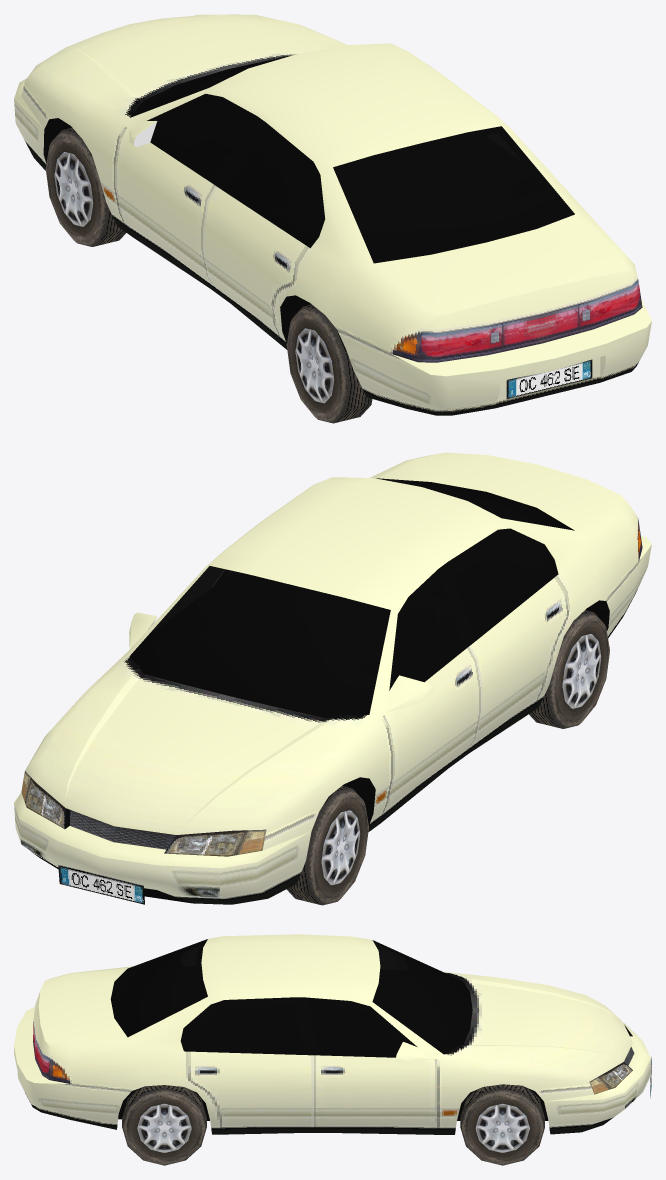
File: othcar-05.glb
3 renders of one model, top to bottom at view 1: azimuth 30°, elevation 25°; view 2: azimuth 150°, elevation 25°; view 3: azimuth 270°, elevation 25°, orthographic. The views are drawn at different scales.
Visible parts, largest first — view 1: body, wheel FL, wheel RL; view 2: body, wheel RL, wheel FL; view 3: body, wheel RR, wheel FR.
Boxes of the visible parts, bbox=[...] form: body: bbox=[14, 14, 651, 415]; wheel FL: bbox=[286, 304, 372, 423]; wheel RL: bbox=[45, 127, 126, 246]; body: bbox=[14, 452, 651, 904]; wheel RL: bbox=[286, 786, 368, 905]; wheel FL: bbox=[529, 610, 609, 728]; body: bbox=[14, 934, 651, 1134]; wheel RR: bbox=[460, 1084, 544, 1165]; wheel FR: bbox=[122, 1085, 206, 1165].
Bounding box in the file's own units: 1.77 × 1.32 × 4.66.
18 materials, 14 textured.
